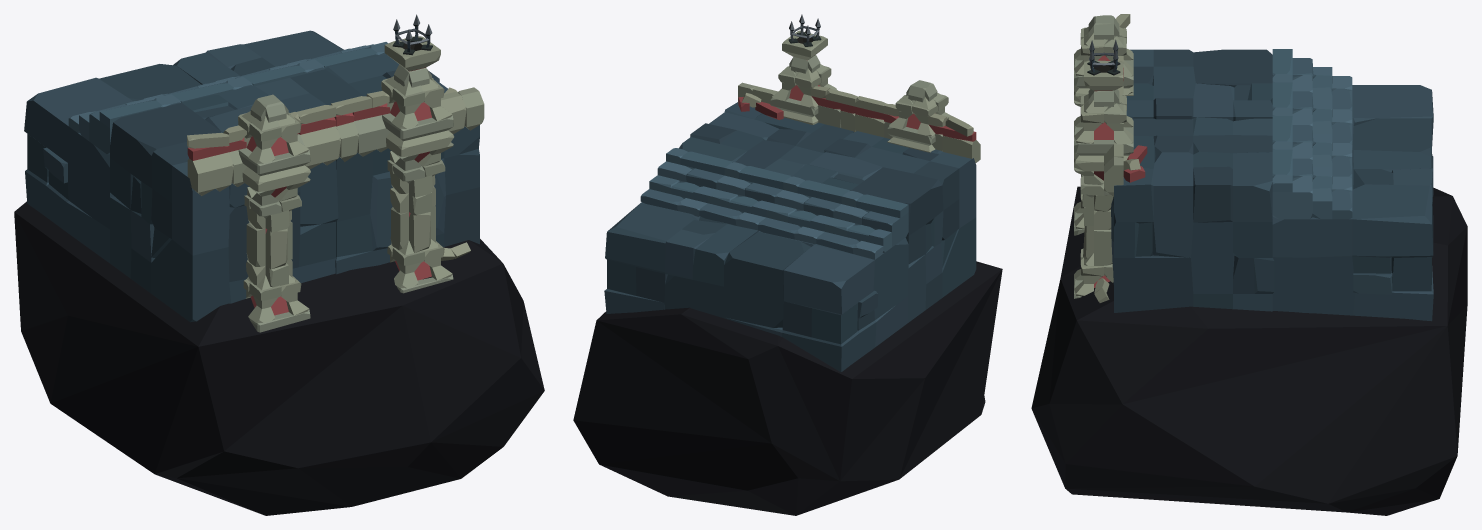
File: platform_edge_02.fbx
3 views of the same model, side by side, from view 1: azimuth 30°, elevation 25°; view 2: azimuth 150°, elevation 25°; view 3: azimuth 270°, elevation 25° (orthographic). The views are drawn at different scales.
Visible parts, largest first — view 1: platform_edge_02; view 2: platform_edge_02; view 3: platform_edge_02.
Boxes of the visible parts, left/top/right/bottom form: platform_edge_02: left=14, top=14, right=544, bottom=515; platform_edge_02: left=573, top=14, right=1002, bottom=515; platform_edge_02: left=1031, top=14, right=1467, bottom=515.
Size of the model in its own units: 1124 by 1338 by 1098.
